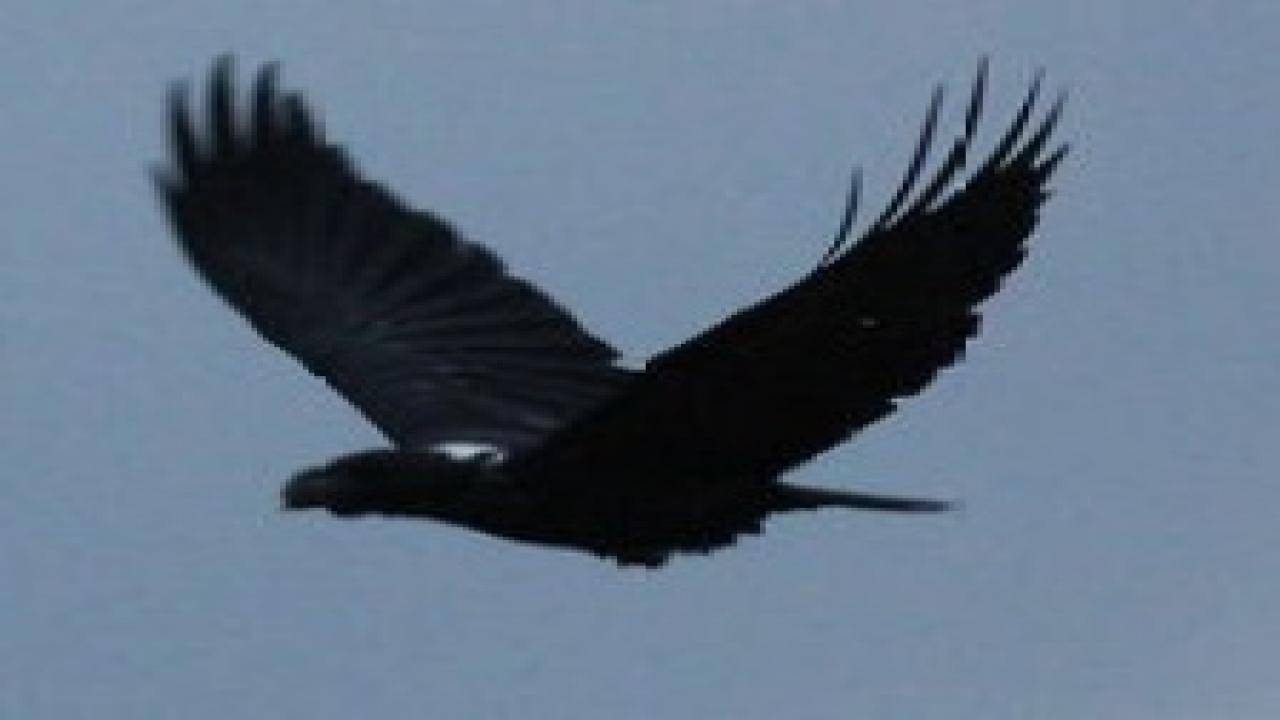Bird: (121, 40, 1096, 582)
